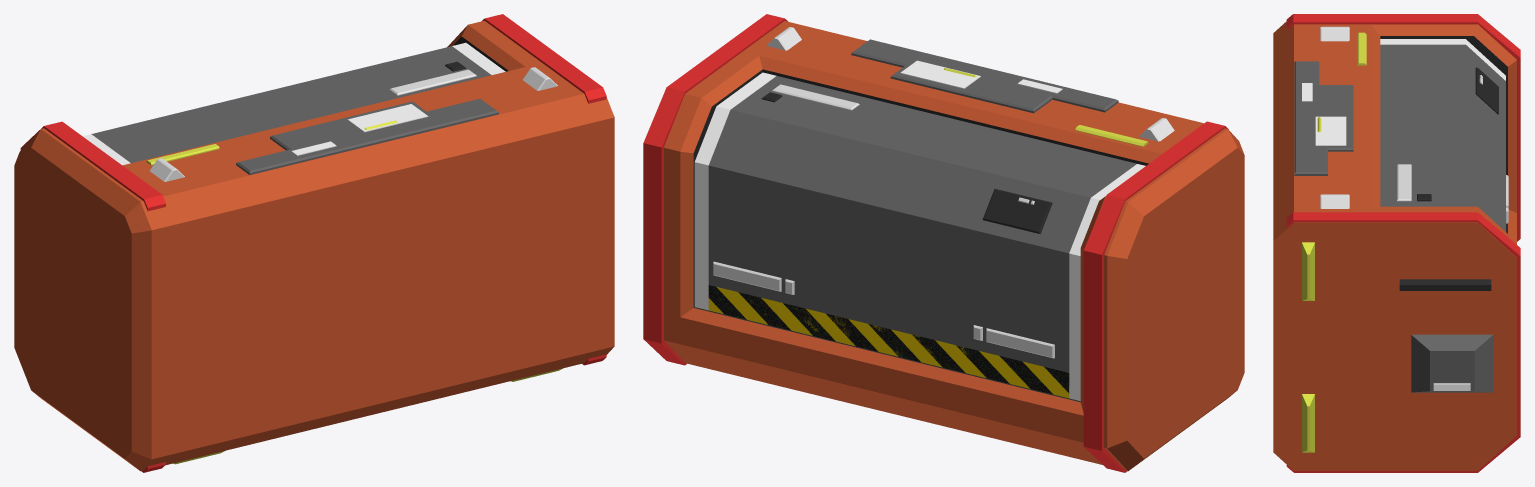
File: cargo collider.fbx
The picture shows the model from 3 angles, left to right: view 1: azimuth 30°, elevation 25°; view 2: azimuth 150°, elevation 25°; view 3: azimuth 270°, elevation 25°; orthographic projection. The views are drawn at different scales.
Visible parts, largest first — view 1: Shell, Hatch; view 2: Shell, Hatch; view 3: Shell, Hatch.
Part boxes in pixels (x1,y1,x2,y2): Shell: (14,14,614,472); Hatch: (83,42,505,165); Shell: (643,14,1244,472); Hatch: (694,72,1145,400); Shell: (1273,14,1520,472); Hatch: (1380,39,1508,231).
Size of the model in its own units: 591 by 328 by 277.
